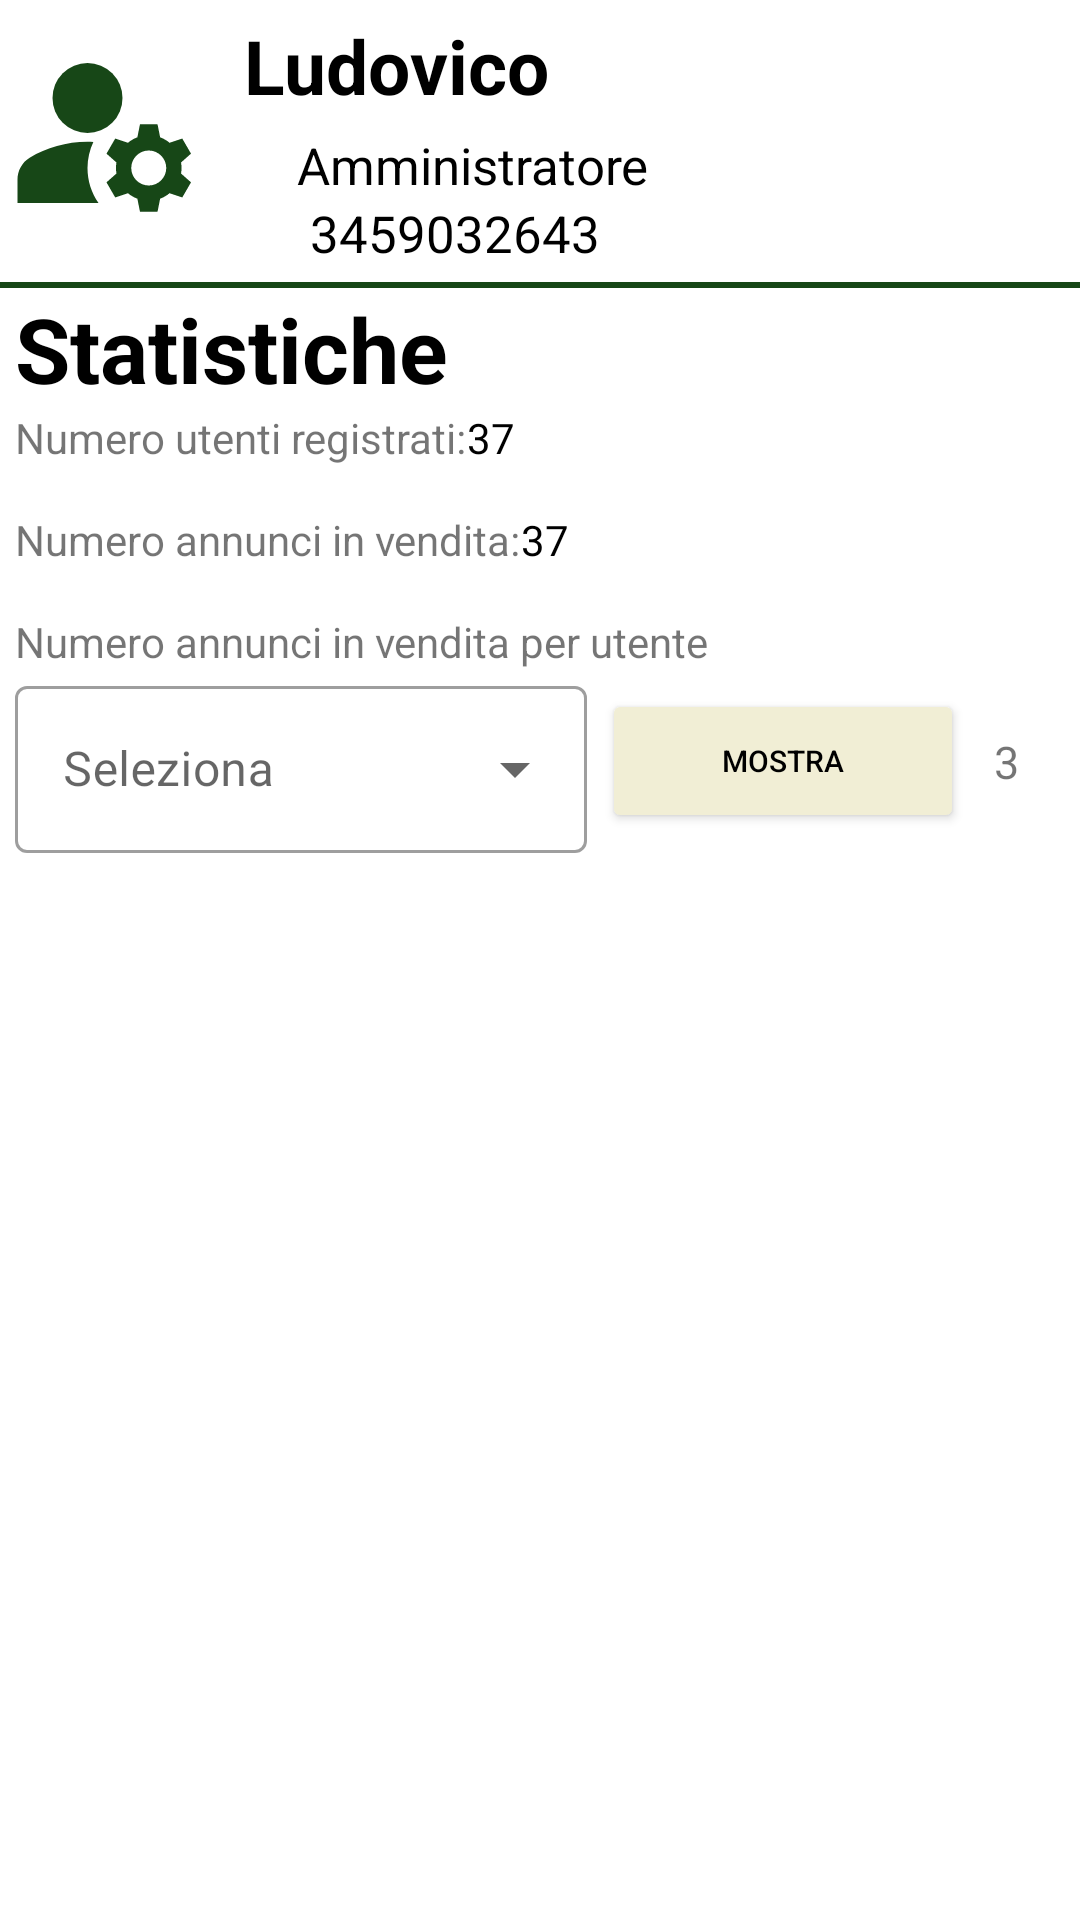

Named icons in this screenshot (1080 × 1920) and their bounding boxes, bbox=[x1, y1, x2, y2]:
manage accounts: bbox=[17, 63, 191, 212]
